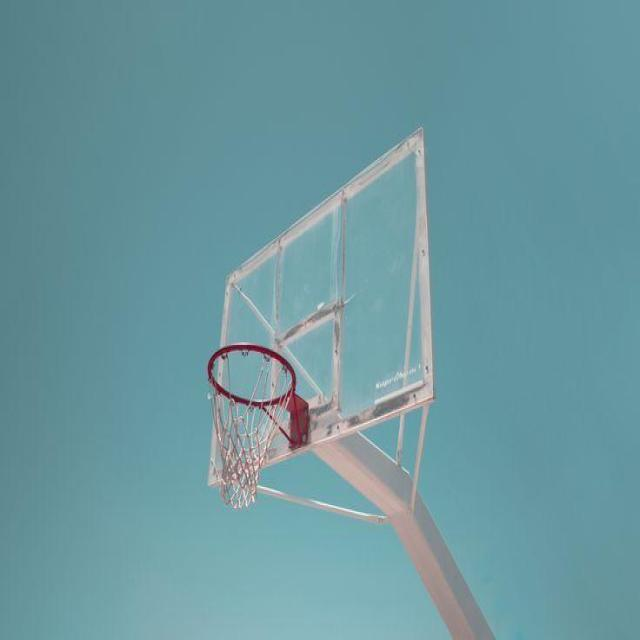hoop: (188, 330, 307, 493)
